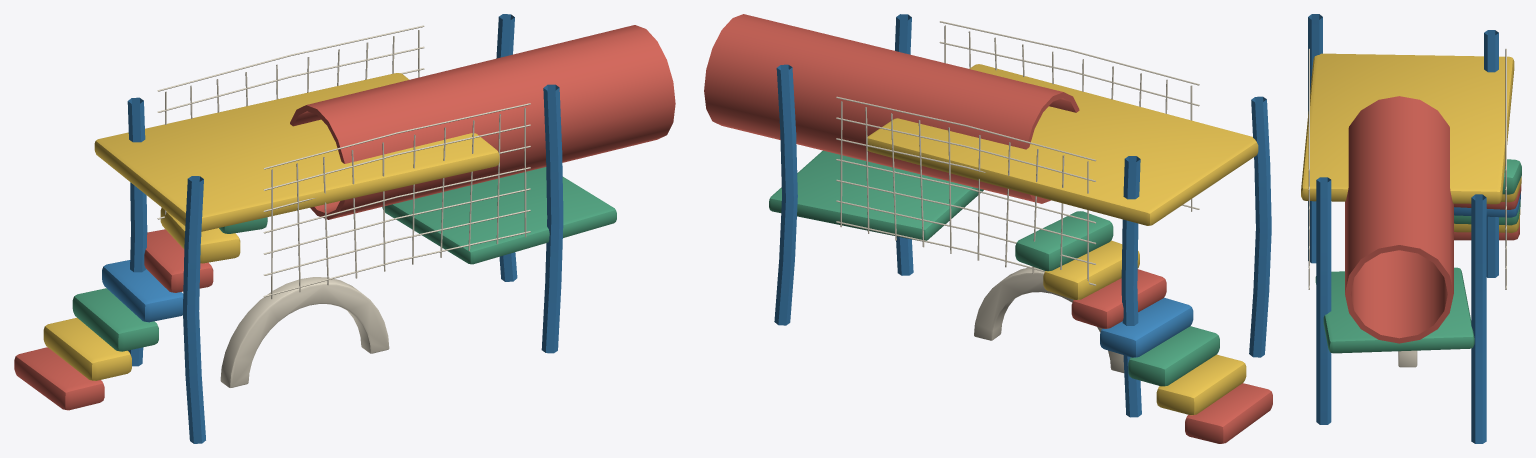
Rendered from playroom-playground-pack.glb.
The picture shows the model from 3 angles, left to right: view 1: azimuth 30°, elevation 25°; view 2: azimuth 150°, elevation 25°; view 3: azimuth 270°, elevation 25°; orthographic projection. The views are drawn at different scales.
Visible parts, largest first — view 1: Sun-faded red plastic, Worn warm yellow plastic, Faded blue plastic, Soft green plastic, Clean aged cream vinyl; view 2: Sun-faded red plastic, Worn warm yellow plastic, Soft green plastic, Faded blue plastic, Clean aged cream vinyl; view 3: Sun-faded red plastic, Worn warm yellow plastic, Faded blue plastic, Soft green plastic, Clean aged cream vinyl.
Boxes of the visible parts, x1,y1,x2,y2 form: Sun-faded red plastic: [14, 25, 675, 410]; Worn warm yellow plastic: [43, 73, 499, 380]; Faded blue plastic: [102, 14, 563, 443]; Soft green plastic: [72, 167, 616, 351]; Clean aged cream vinyl: [157, 25, 530, 387]; Sun-faded red plastic: [704, 14, 1272, 443]; Worn warm yellow plastic: [867, 64, 1258, 415]; Soft green plastic: [769, 150, 1219, 386]; Faded blue plastic: [774, 14, 1271, 417]; Clean aged cream vinyl: [836, 21, 1199, 372]; Sun-faded red plastic: [1345, 96, 1521, 343]; Worn warm yellow plastic: [1301, 53, 1521, 232]; Faded blue plastic: [1308, 14, 1520, 443]; Soft green plastic: [1315, 159, 1521, 353]; Clean aged cream vinyl: [1308, 48, 1506, 367].
Bounding box in the file's own units: 14.55 × 6.43 × 5.27.
